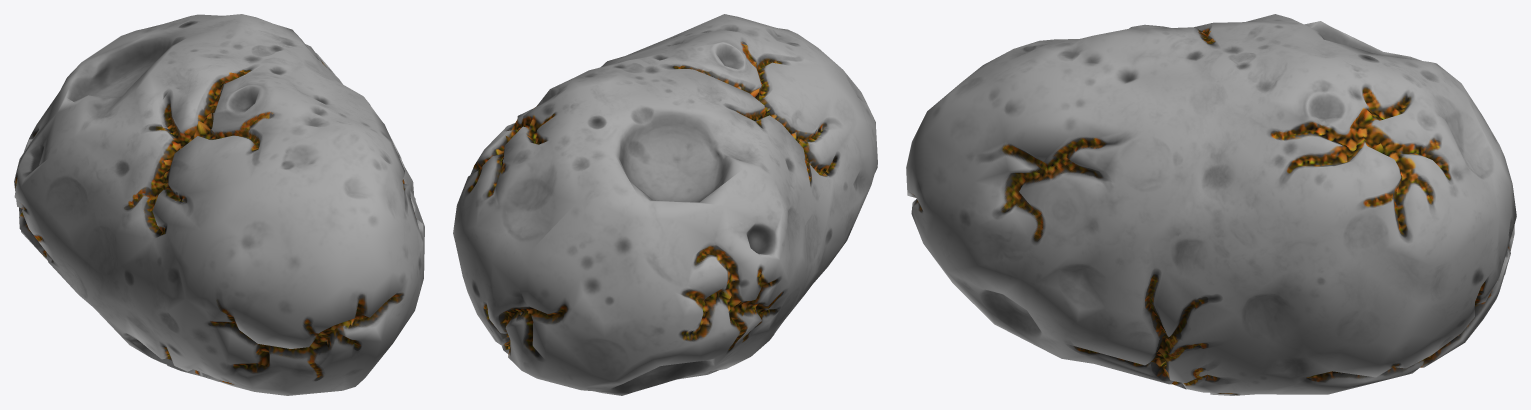
Rendered from Asteroid.dae.
3 views of the same model, side by side, from view 1: azimuth 30°, elevation 25°; view 2: azimuth 150°, elevation 25°; view 3: azimuth 270°, elevation 25° (orthographic). The views are drawn at different scales.
Visible parts, largest first — view 1: Asteroid; view 2: Asteroid; view 3: Asteroid.
Part boxes in pixels (<box>): Asteroid: <box>14,14,424,395</box>; Asteroid: <box>453,14,877,395</box>; Asteroid: <box>906,14,1516,395</box>.
Bounding box in the file's own units: 8.44 × 7.87 × 12.56.
